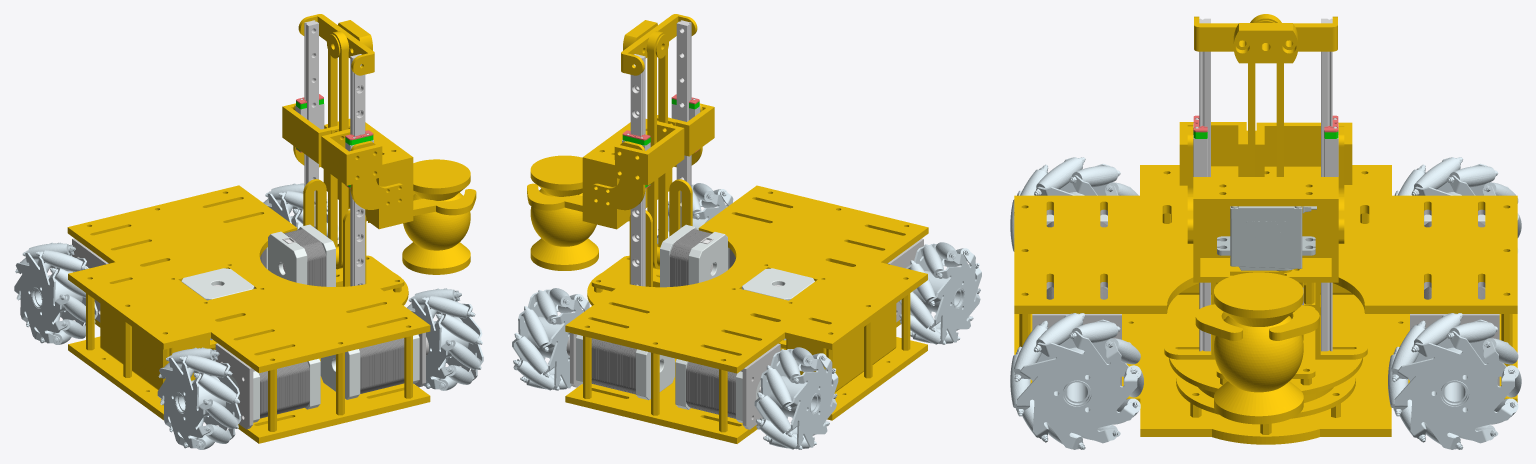
3 renders of one model, left to right at view 1: azimuth 30°, elevation 25°; view 2: azimuth 150°, elevation 25°; view 3: azimuth 270°, elevation 25°, orthographic. The views are drawn at different scales.
Visible parts, largest first — view 1: Node6, Node1, Node16, Node11, Node15, Node3, Node5, Node9, Node10; view 2: Node6, Node1, Node16, Node11, Node15, Node3, Node5, Node9, Node10; view 3: Node6, Node1, Node16, Node15, Node2, Node4, Node9, Node7.
Part boxes in pixels (left/top/right/bottom): Node6: left=67, top=14, right=476, bottom=443; Node1: left=14, top=183, right=483, bottom=448; Node16: left=15, top=183, right=482, bottom=449; Node11: left=181, top=224, right=419, bottom=422; Node15: left=295, top=20, right=373, bottom=286; Node3: left=277, top=340, right=395, bottom=414; Node5: left=259, top=229, right=404, bottom=418; Node9: left=72, top=238, right=425, bottom=429; Node10: left=284, top=229, right=326, bottom=286; Node6: left=527, top=14, right=928, bottom=443; Node1: left=512, top=184, right=981, bottom=449; Node16: left=514, top=183, right=979, bottom=449; Node11: left=576, top=224, right=814, bottom=422; Node15: left=622, top=20, right=700, bottom=286; Node3: left=600, top=341, right=718, bottom=414; Node5: left=591, top=229, right=736, bottom=418; Node9: left=570, top=238, right=923, bottom=429; Node10: left=669, top=229, right=711, bottom=286; Node6: left=1014, top=14, right=1517, bottom=444; Node1: left=1014, top=157, right=1517, bottom=449; Node16: left=1010, top=157, right=1521, bottom=449; Node15: left=1193, top=18, right=1338, bottom=351; Node2: left=1230, top=206, right=1302, bottom=250; Node4: left=1217, top=206, right=1315, bottom=270; Node9: left=1032, top=209, right=1499, bottom=386; Node7: left=1239, top=206, right=1316, bottom=246.
Bounding box in the file's own units: 300 × 249 × 284.
